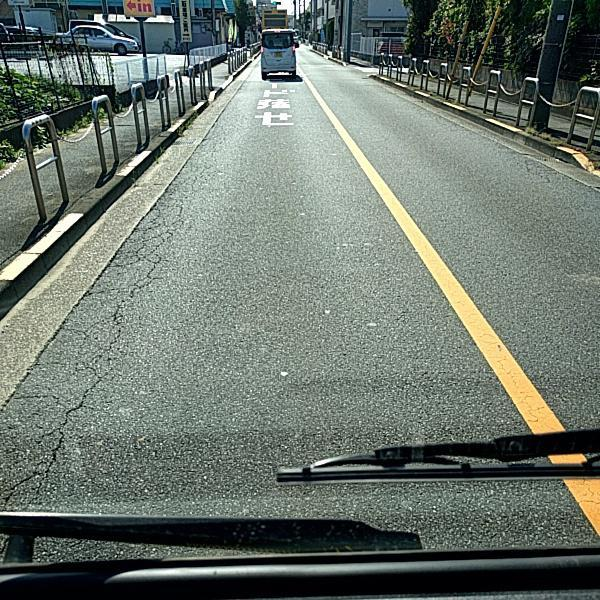D20: (0, 174, 199, 512)
